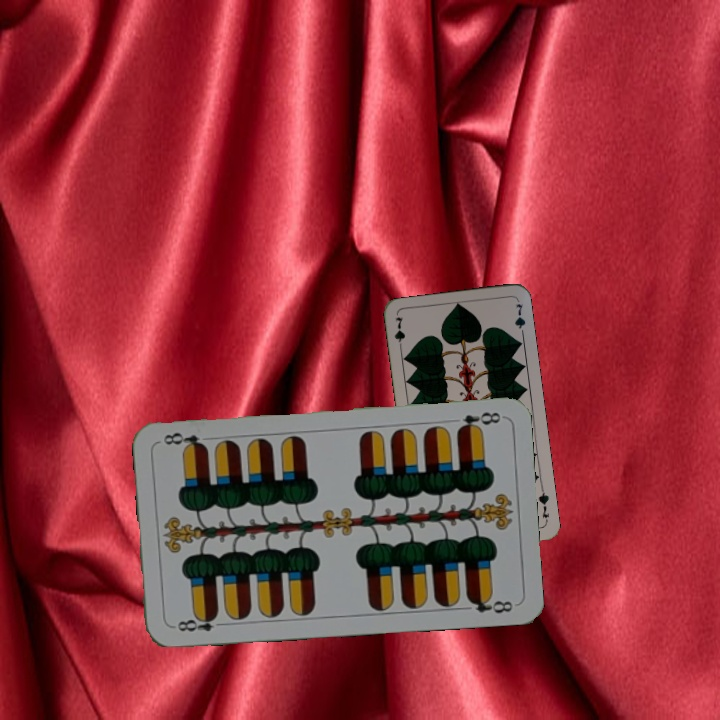E8: (169, 610, 228, 635), (453, 408, 503, 434)
G7: (535, 484, 552, 525), (391, 313, 407, 354)
